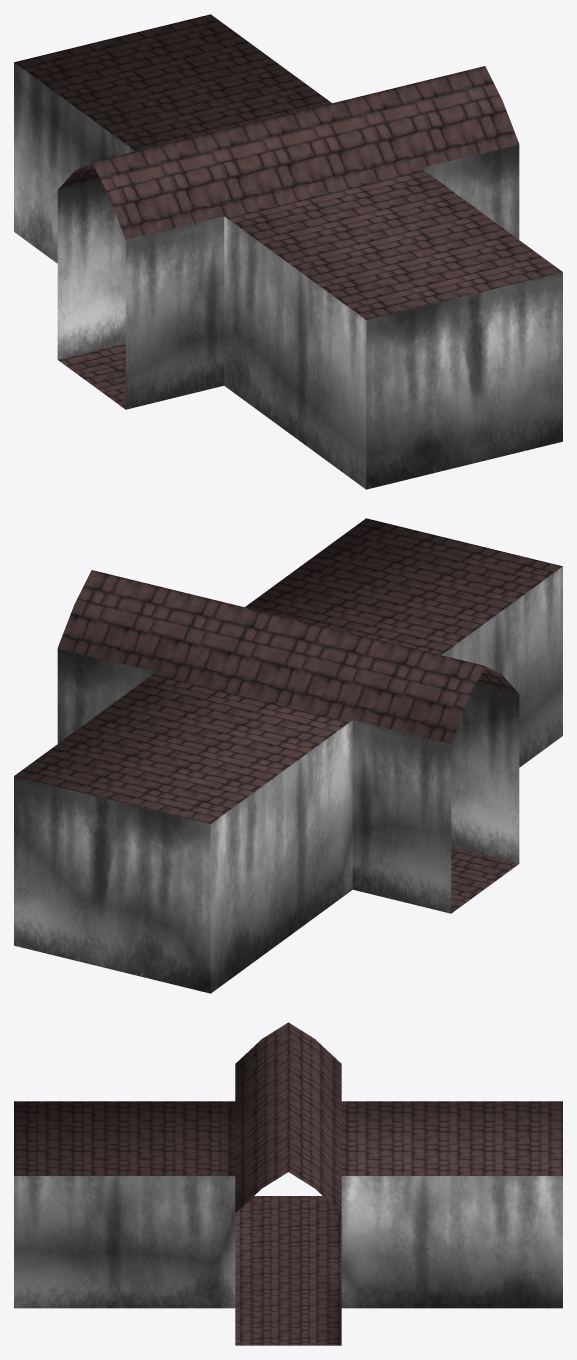
File: MOD_L1_Prison_02.fbx
3 views of the same model, one above another, from view 1: azimuth 30°, elevation 25°; view 2: azimuth 150°, elevation 25°; view 3: azimuth 270°, elevation 25° (orthographic). The views are drawn at different scales.
Parts seen in each view (by area): view 1: prisonBlock02; view 2: prisonBlock02; view 3: prisonBlock02.
Part boxes in pixels (x1,y1,x2,y2): prisonBlock02: (14,14,562,489); prisonBlock02: (14,518,562,993); prisonBlock02: (14,1022,562,1345).
Size of the model in its own units: 160 by 87.19 by 248.
